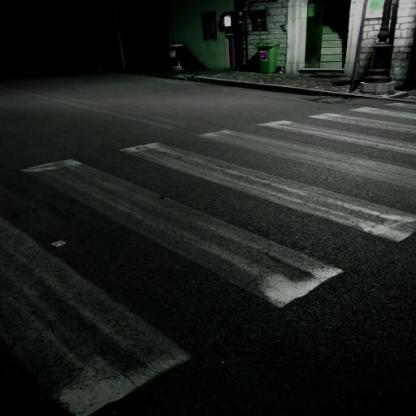crosswalk: (10, 137, 416, 313)
